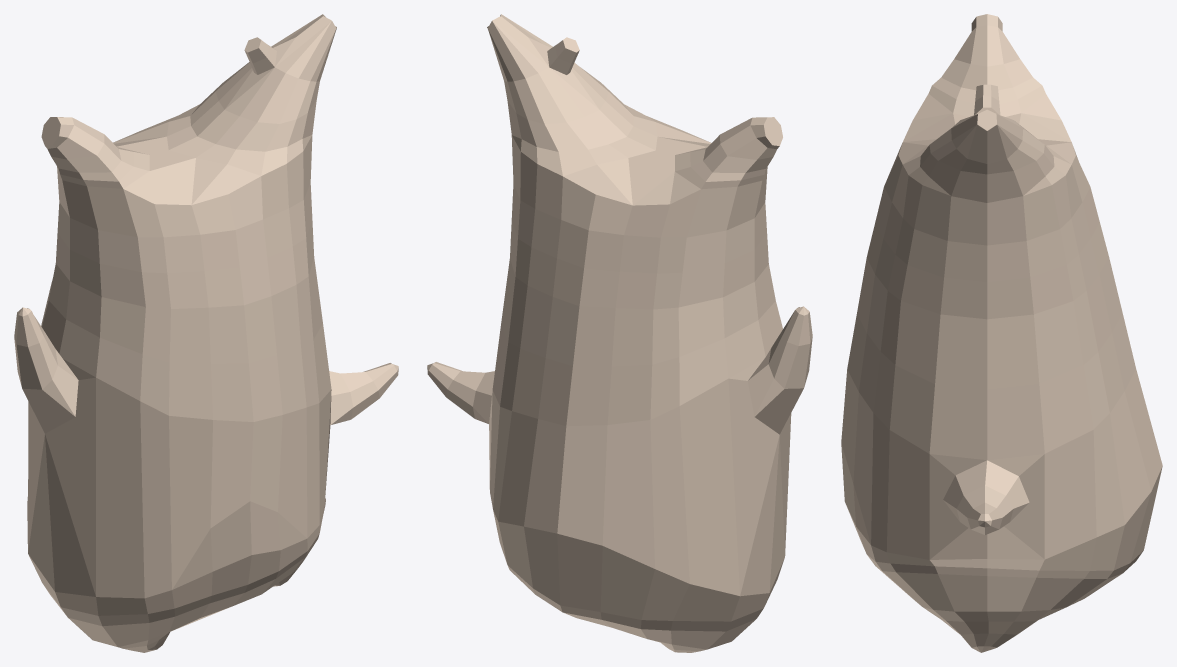
File: frame_0099.obj
The picture shows the model from 3 angles, left to right: view 1: azimuth 30°, elevation 25°; view 2: azimuth 150°, elevation 25°; view 3: azimuth 270°, elevation 25°; orthographic projection.
Visible parts, largest first — view 1: korok; view 2: korok; view 3: korok.
Boxes of the visible parts, bbox=[...] form: korok: bbox=[14, 14, 398, 652]; korok: bbox=[427, 14, 812, 652]; korok: bbox=[841, 14, 1162, 652].
Bounding box in the file's own units: 1.5 × 2.2 × 1.07.
